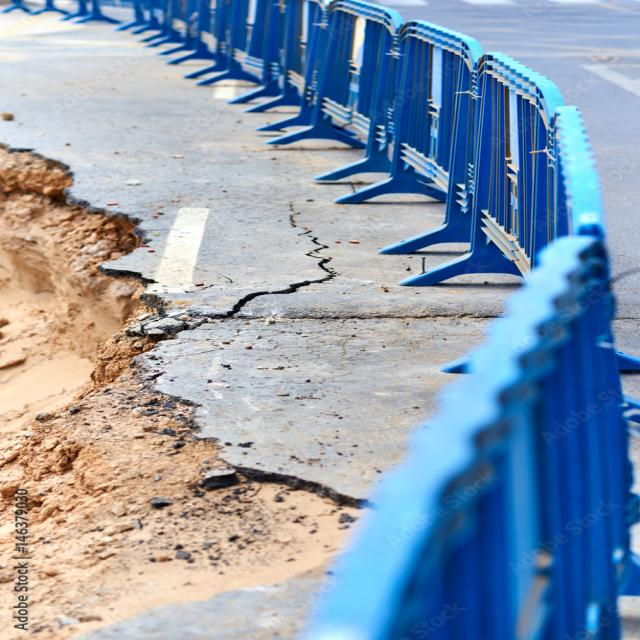Pothole: (0, 116, 566, 640)
